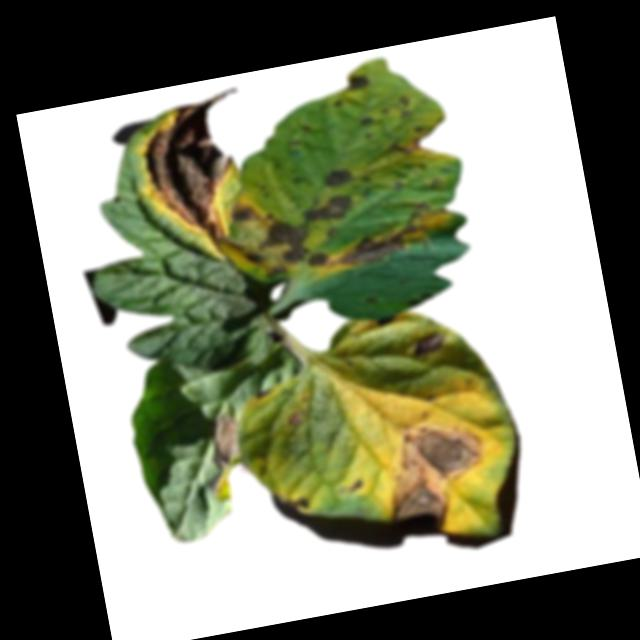Early_blight: (127, 83, 264, 250), (372, 406, 504, 537), (329, 199, 454, 270), (237, 208, 312, 284), (201, 409, 252, 503), (408, 325, 452, 365), (303, 190, 353, 222), (274, 483, 315, 513), (338, 68, 375, 94), (321, 161, 354, 190), (388, 134, 422, 157), (307, 245, 331, 272), (395, 93, 414, 120), (284, 407, 309, 427), (345, 475, 367, 493), (361, 111, 376, 126)
